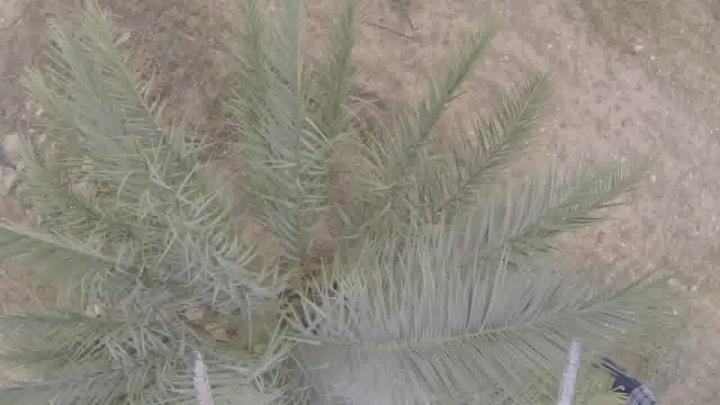Date-Palm-Crown: (59, 139, 541, 405)
